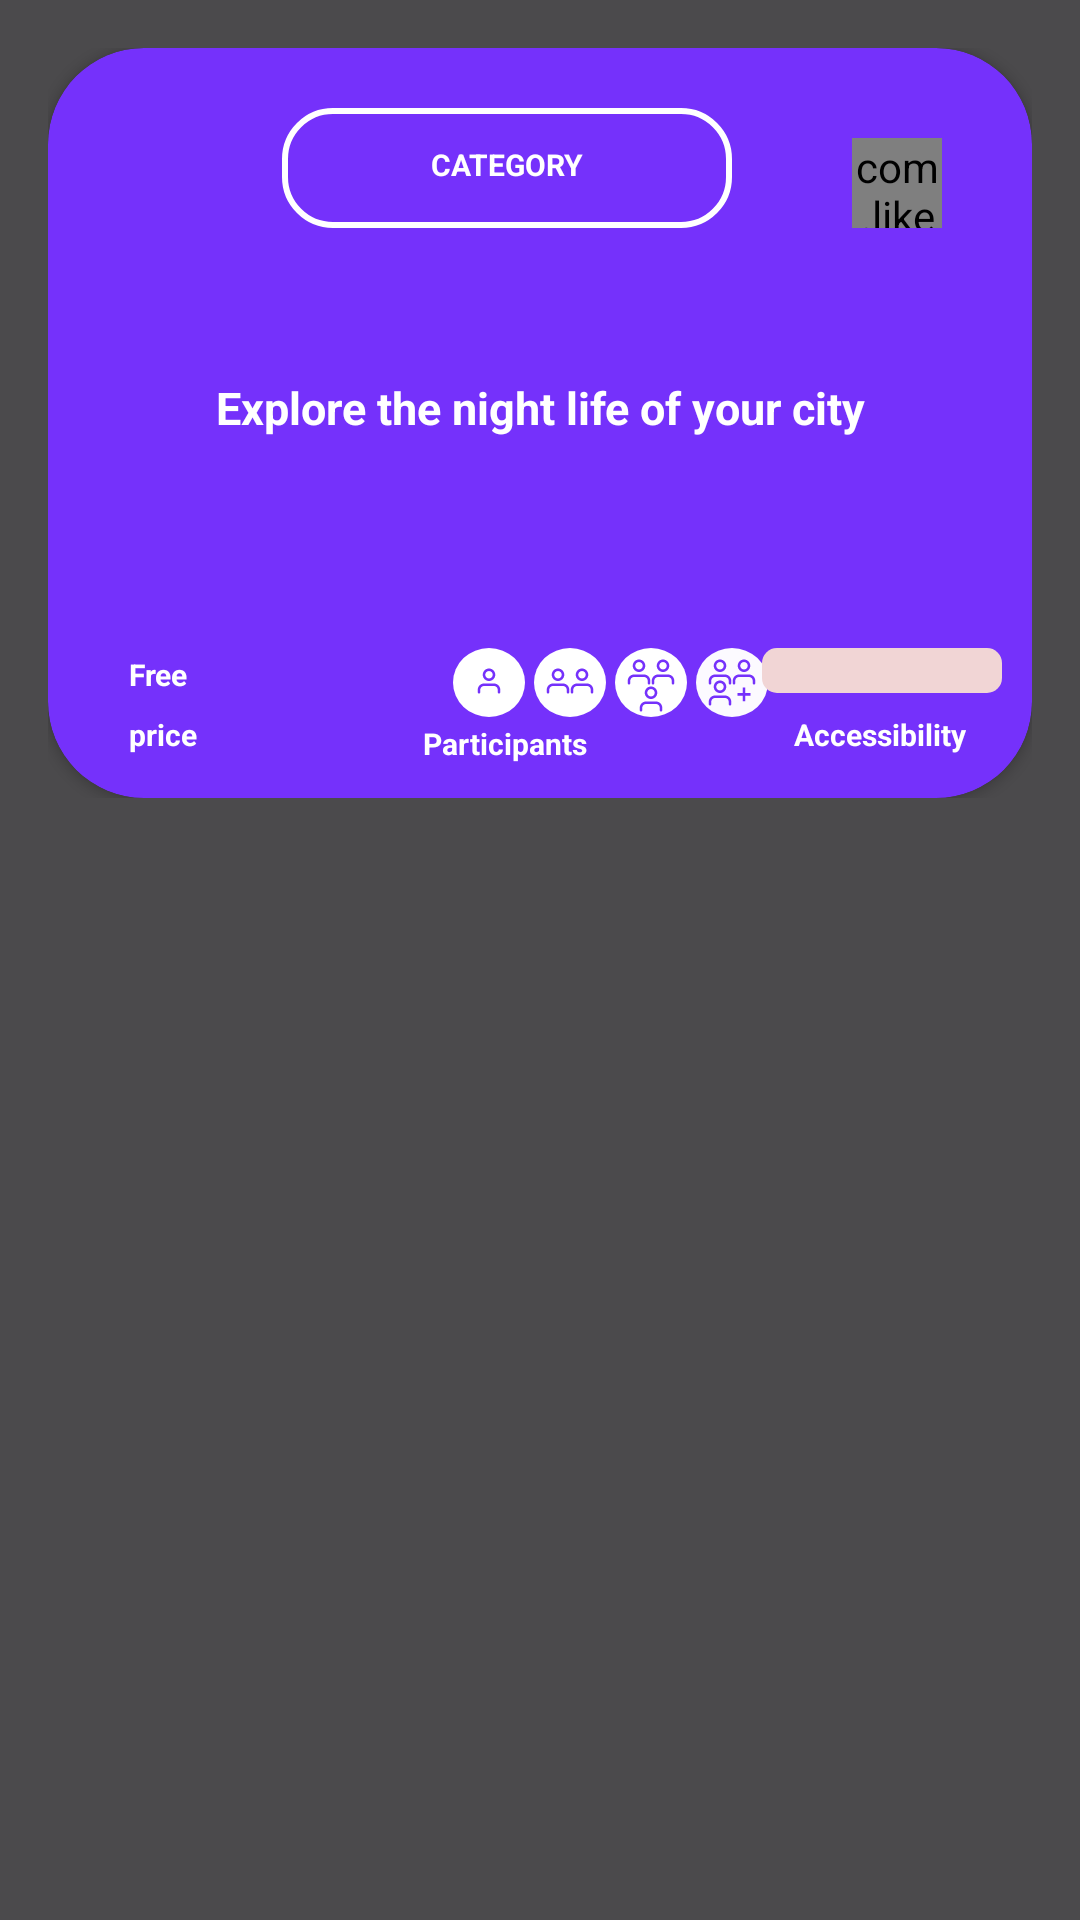

Locate icon controls on the screen. Image size 1080×1920, boxes as (x1, y1, x2, y2).
four persons: (696, 648, 768, 717)
one user: (453, 648, 525, 717)
three persons: (615, 648, 687, 717)
two users: (534, 648, 606, 717)
